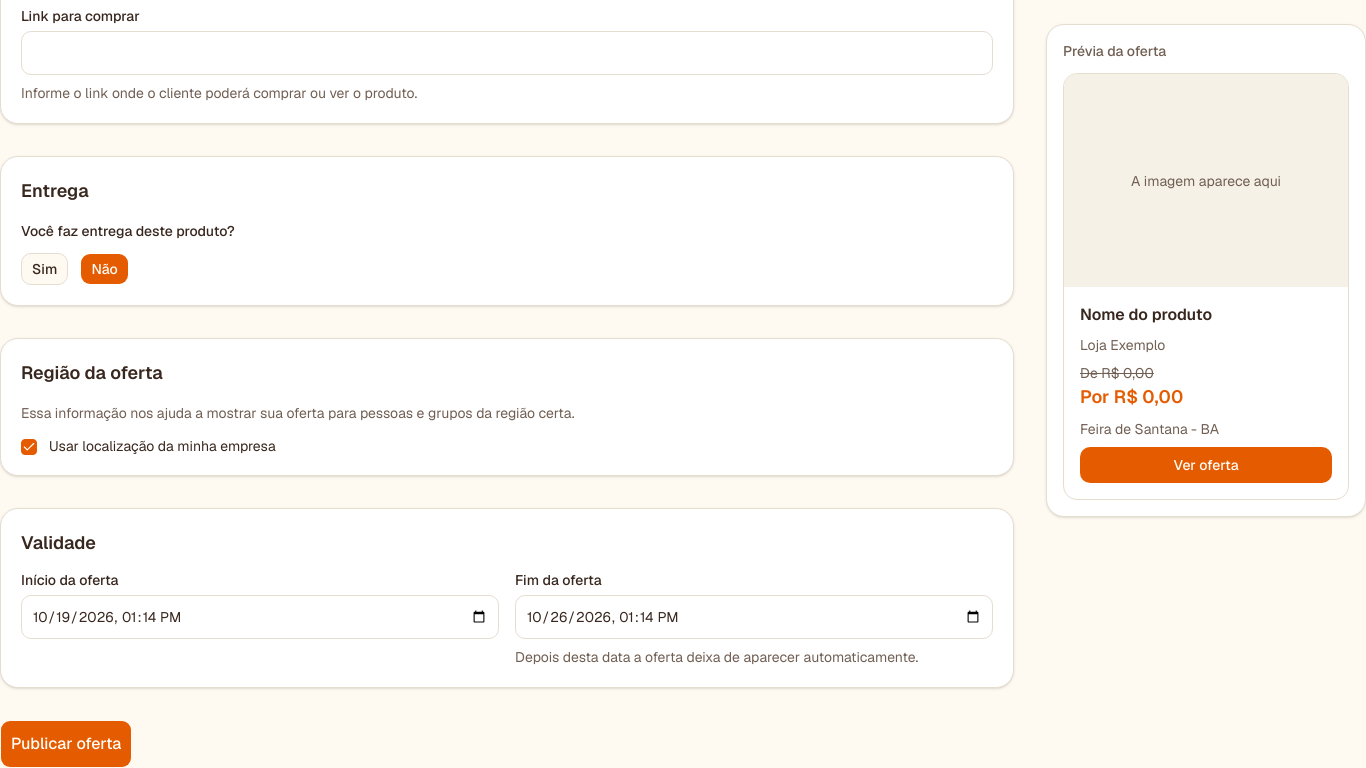
Test case: OfferForm › shows required-field messages on submit
The width and height of the screenshot is (1366, 768).
(page scrolled)
Click the button "Publicar oferta": (66, 744) [0, 720, 132, 767]
(page scrolled)
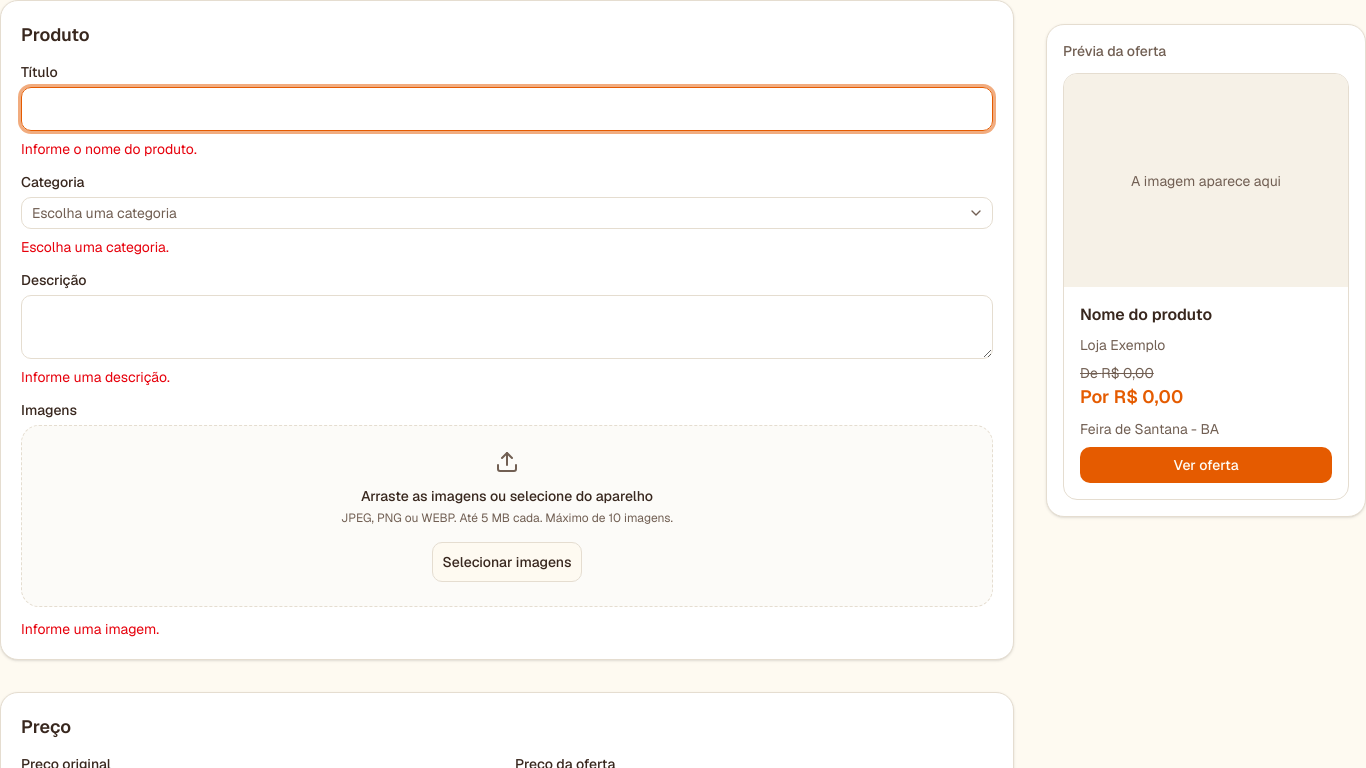
expect the text "Informe o nome do produto." is shown: met, box [21, 140, 197, 158]
expect the text "Escolha uma categoria." is shown: met, box [21, 238, 169, 256]
expect the text "Informe uma imagem." is shown: met, box [21, 620, 159, 638]
